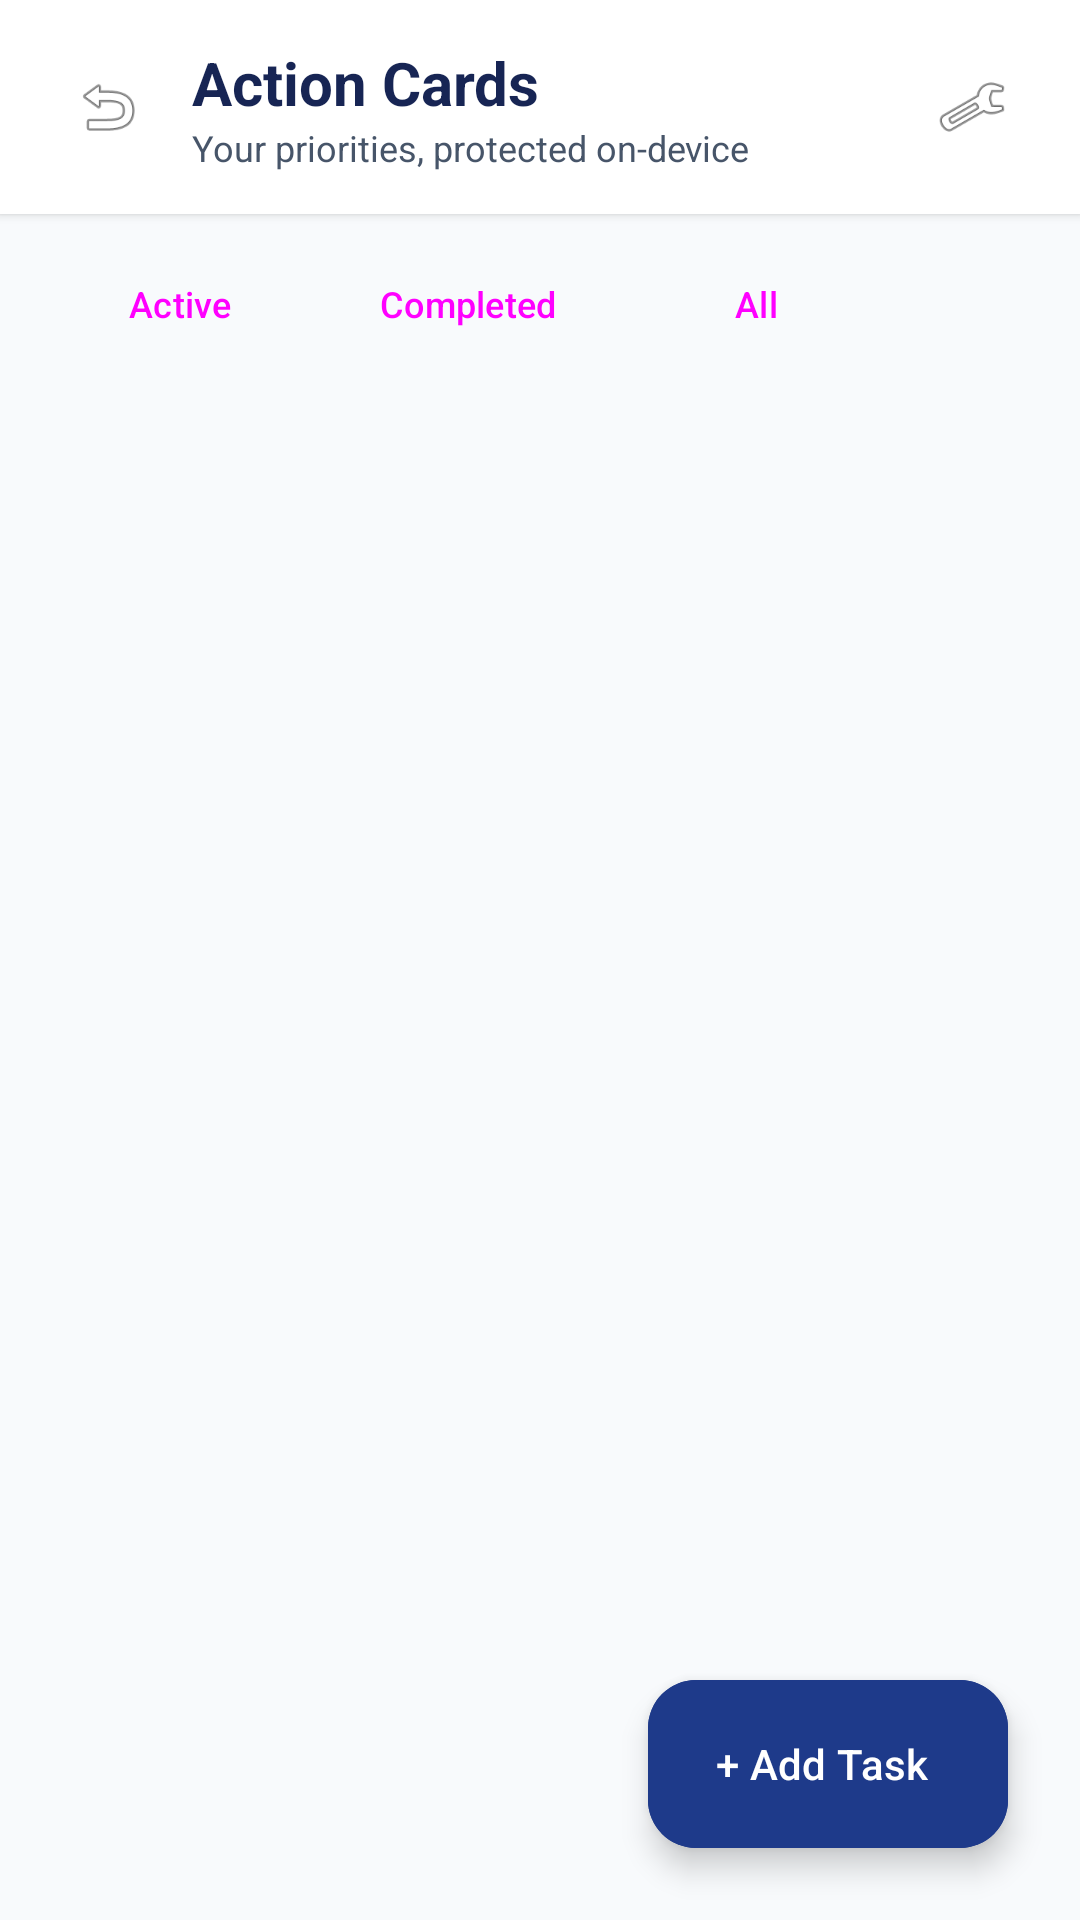

Screen size 1080 × 1920. Icon name, then its center in pixels as (x=x, y=y):
Back to Home: (x=109, y=107)
